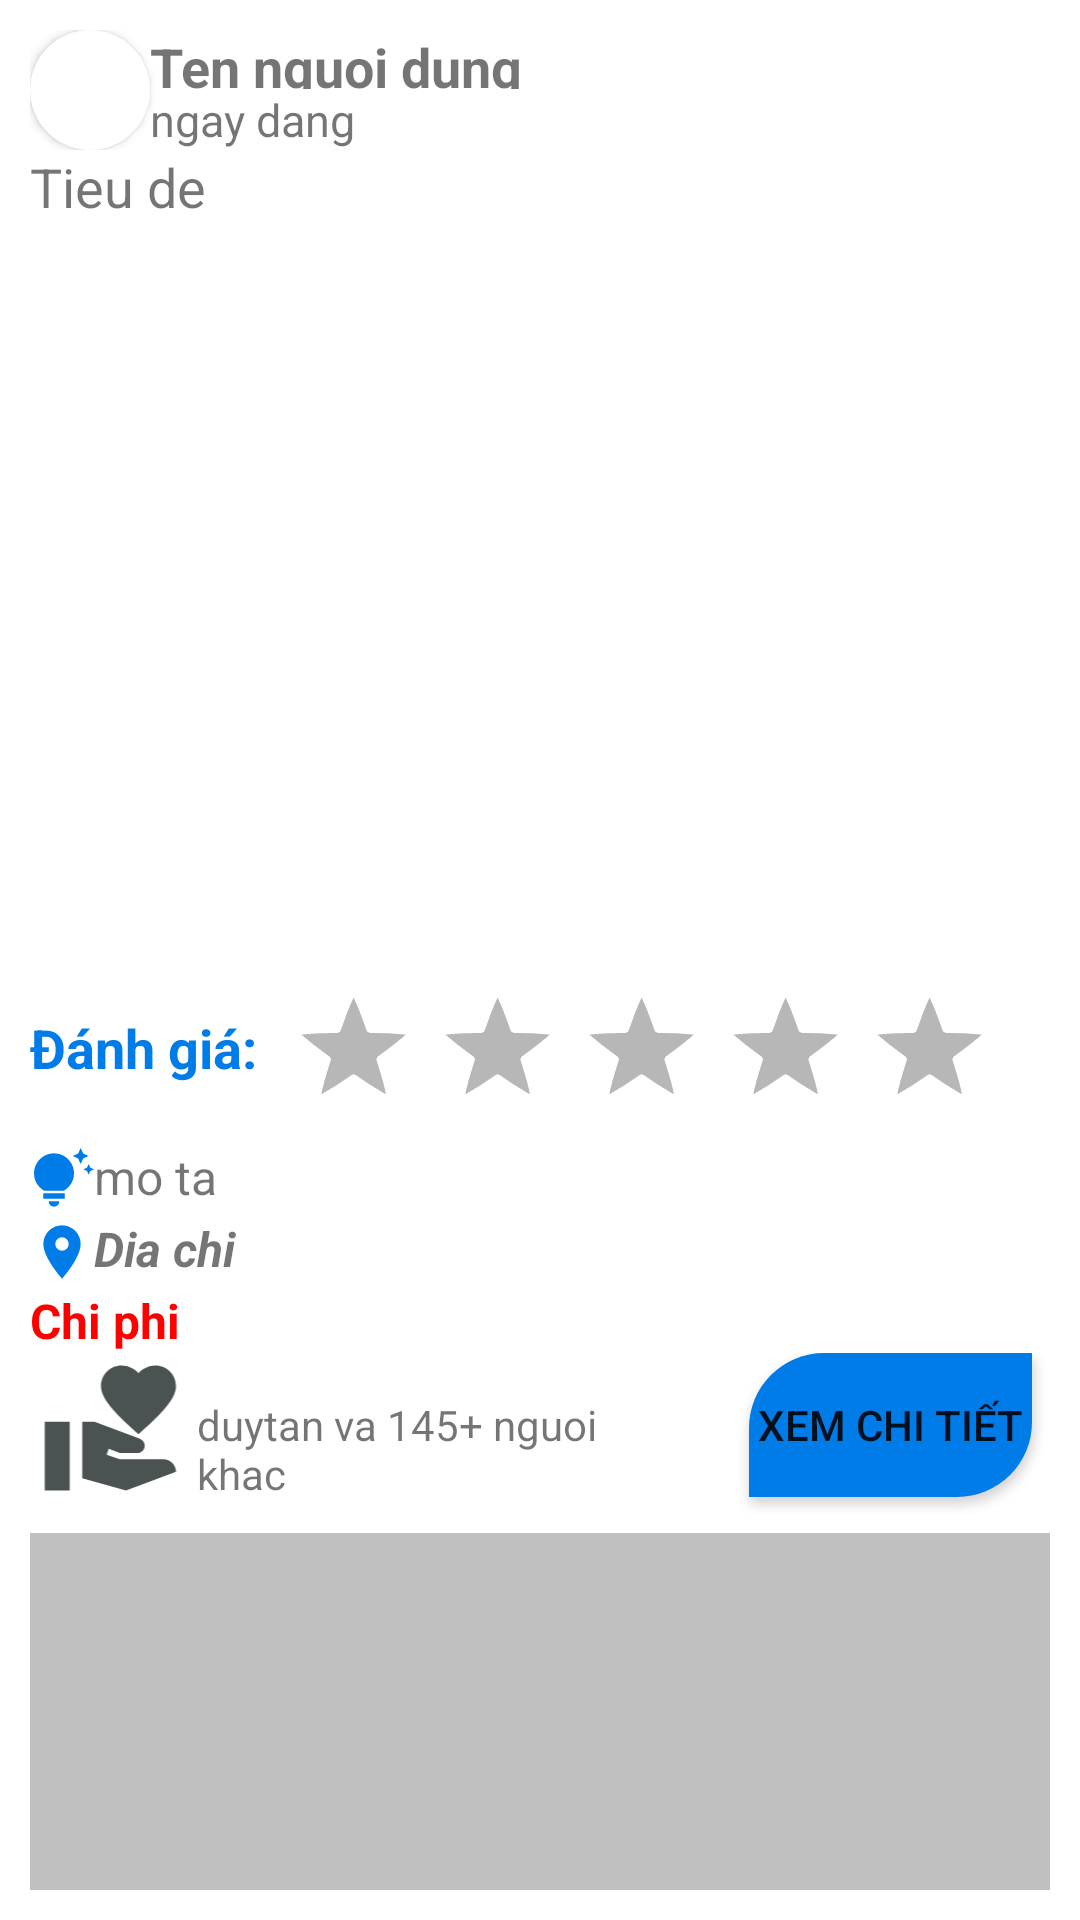

Named icons in this screenshot (1080px x 1920px) and their bounding boxes, [x1, y1, x2, y2]:
location on: [43, 1225, 81, 1279]
tips and updates: [34, 1148, 94, 1207]
volunteer activism: [44, 1365, 177, 1491]
